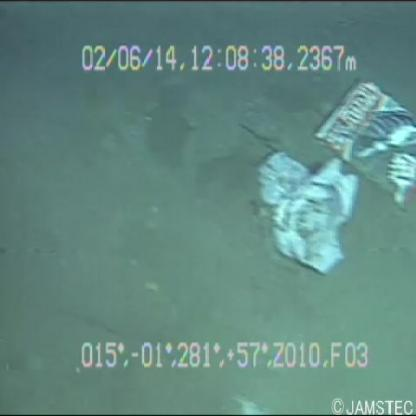Rác: (241, 131, 359, 283), (305, 63, 416, 215)
